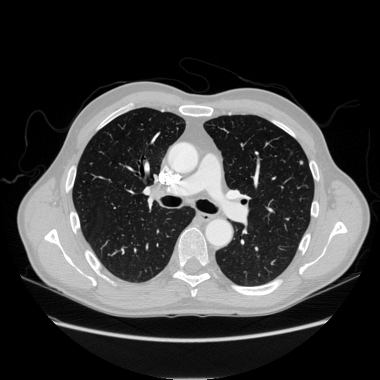nodule: (299, 160, 303, 164)
